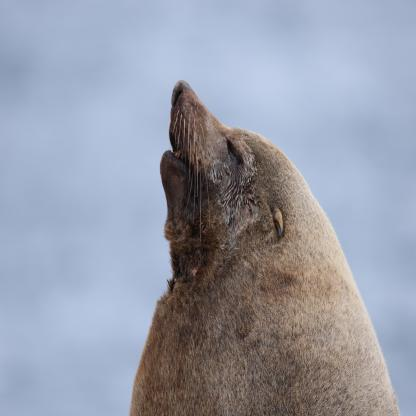face: (158, 79, 258, 216)
